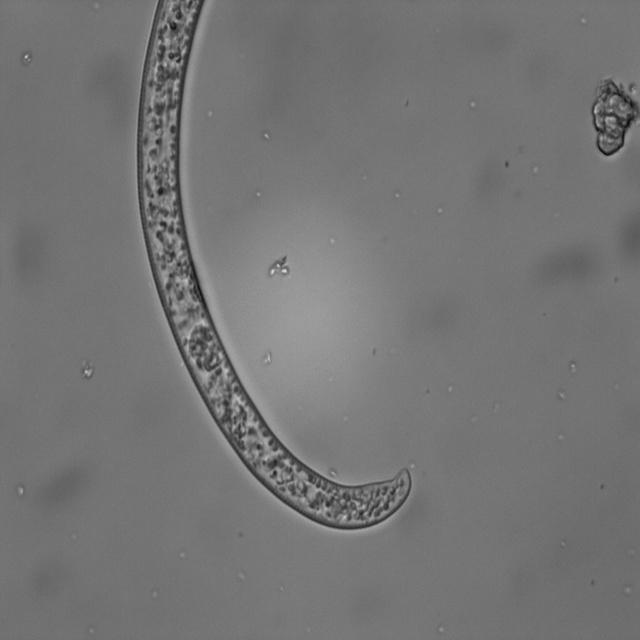Helicotylenchus: (132, 0, 420, 538)
